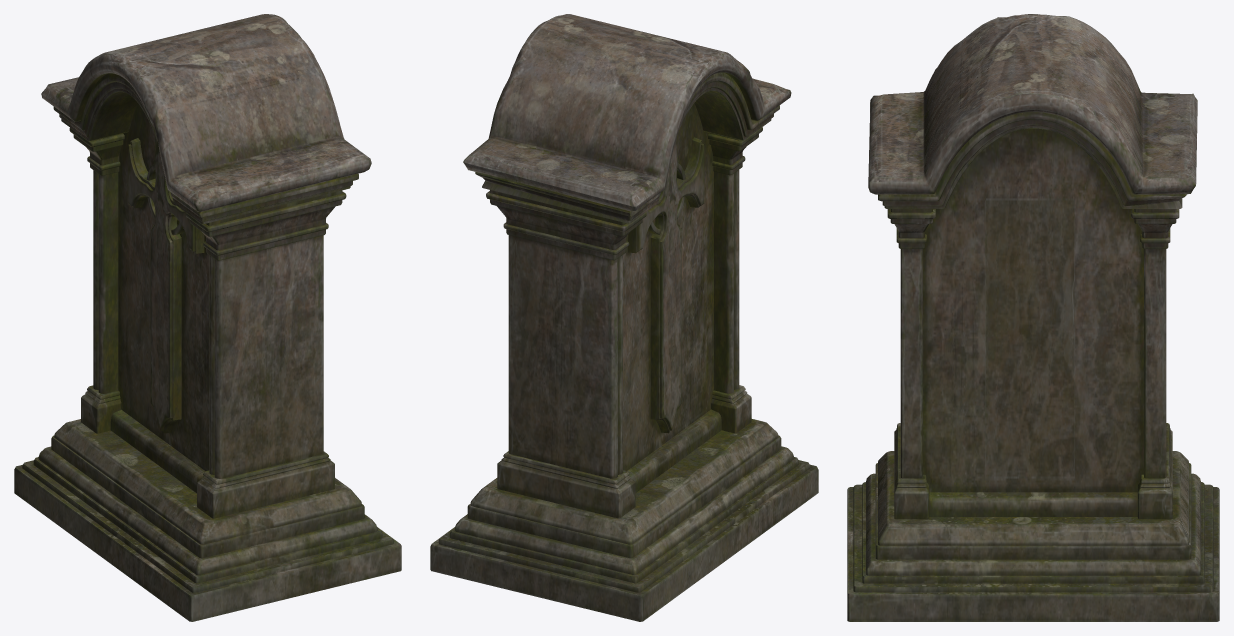
The model's file is SM_TombsA2.fbx.
3 renders of one model, left to right at view 1: azimuth 30°, elevation 25°; view 2: azimuth 150°, elevation 25°; view 3: azimuth 270°, elevation 25°, orthographic. The views are drawn at different scales.
Visible parts, largest first — view 1: SM_TombsA2_LOD0; view 2: SM_TombsA2_LOD0; view 3: SM_TombsA2_LOD0.
Part boxes in pixels (bbox=[...]): SM_TombsA2_LOD0: bbox=[14, 14, 401, 621]; SM_TombsA2_LOD0: bbox=[430, 14, 818, 621]; SM_TombsA2_LOD0: bbox=[847, 14, 1219, 621].
Bounding box in the file's own units: 42.13 × 61.11 × 93.33.
1 material, 1 textured.
